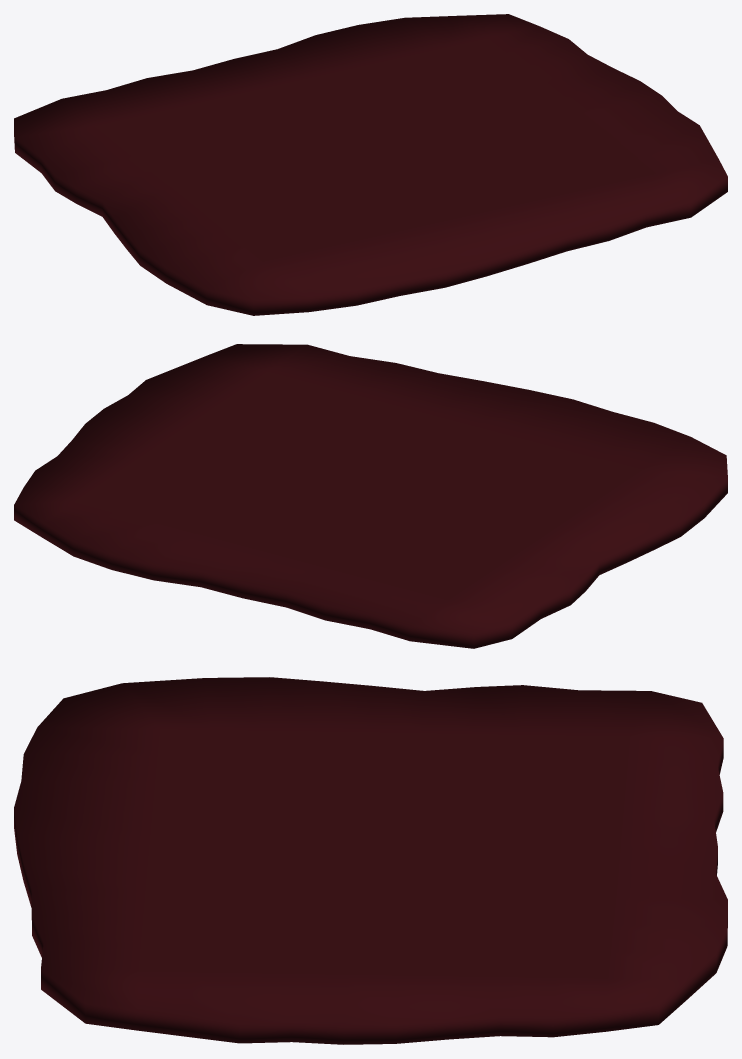
Rendered from slather.fbx.
3 views of the same model, one above another, from view 1: azimuth 30°, elevation 25°; view 2: azimuth 150°, elevation 25°; view 3: azimuth 270°, elevation 25° (orthographic). The views are drawn at different scales.
Visible parts, largest first — view 1: spread; view 2: spread; view 3: spread.
Boxes of the visible parts, left/top/right/bottom form: spread: left=14, top=14, right=727, bottom=315; spread: left=14, top=344, right=727, bottom=648; spread: left=14, top=677, right=727, bottom=1044.
Size of the model in its own units: 18.18 by 0.4843 by 15.77.
